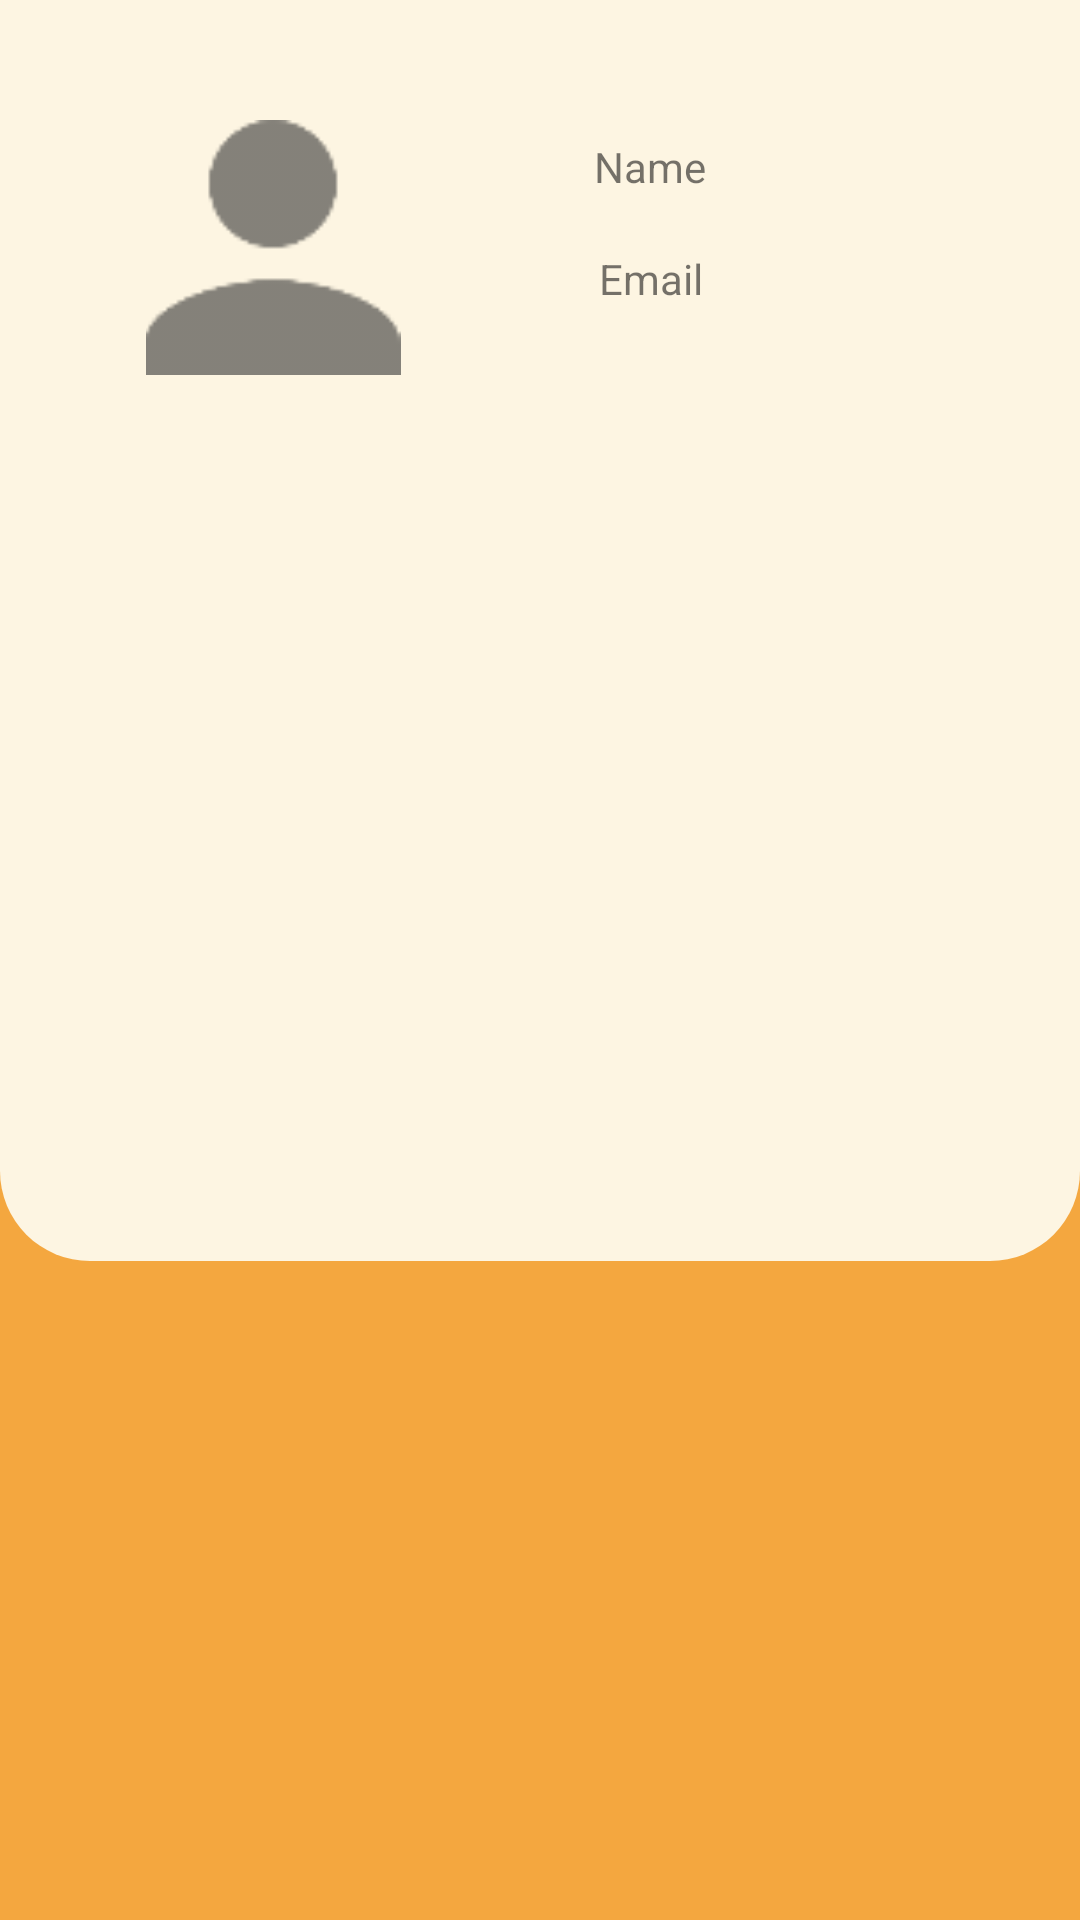

Icon bounding boxes for this 1080w x 1920h phone screenshot, format (x1, y1, x2, y2):
profile: (146, 120, 401, 375)
